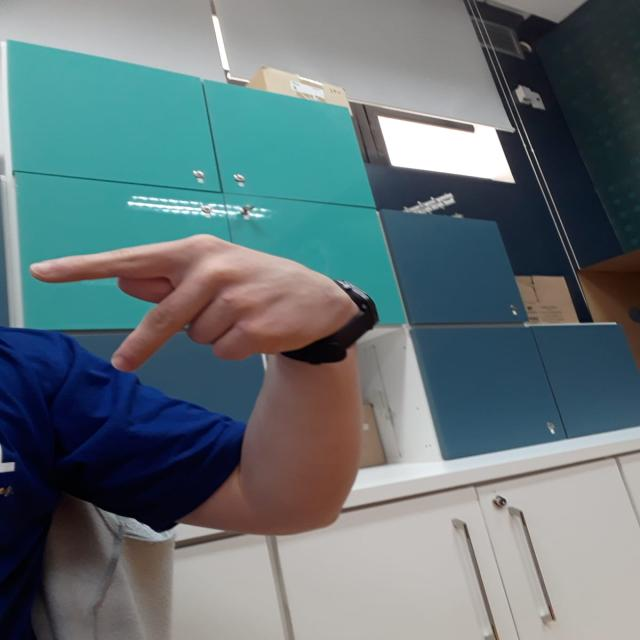P: (19, 232, 352, 374)
